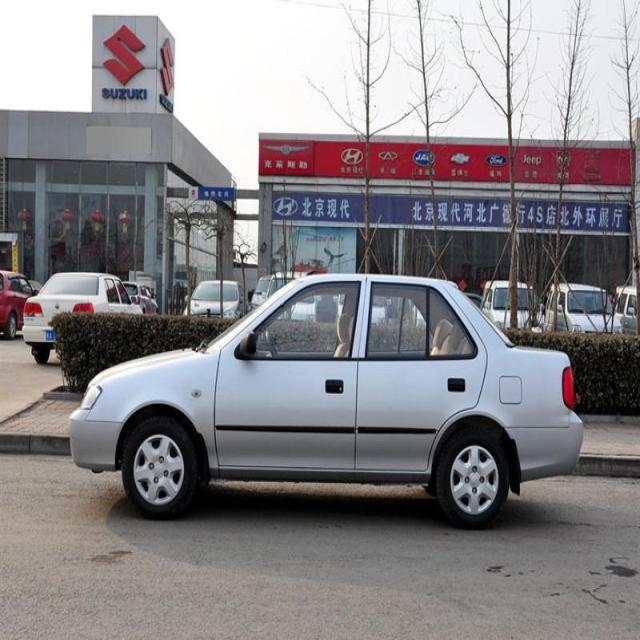back_left_side_light: (559, 362, 582, 408)
door: (362, 276, 488, 470)
front_bumper: (68, 410, 121, 475)
front_left_side_door: (214, 271, 365, 474)
front_left_side_light: (82, 380, 104, 416)
front_left_side_mirror: (238, 328, 260, 362)
rear_bumper: (509, 416, 594, 482)
wheel: (126, 411, 197, 508), (442, 429, 504, 523)
